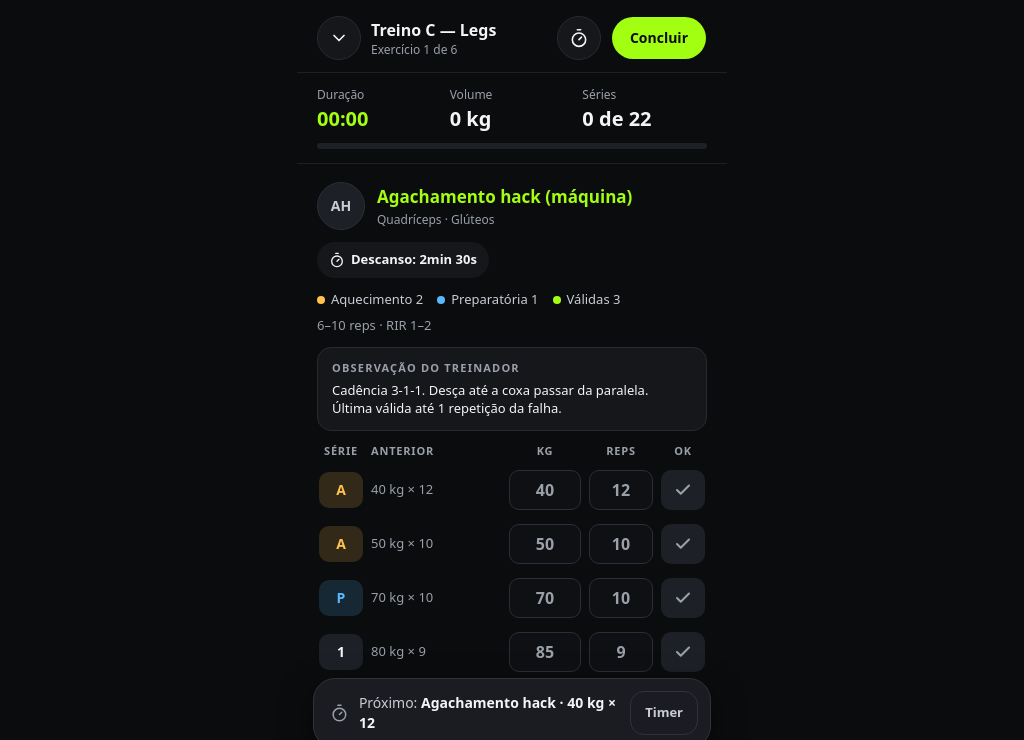
Test: Treino em andamento › não conclui um treino sem nenhuma série
Expected: the heading "Treino C — Legs" is shown, [371,19,496,41]
Click the button "Concluir". click: (659, 38)
box: [611,16,707,60]
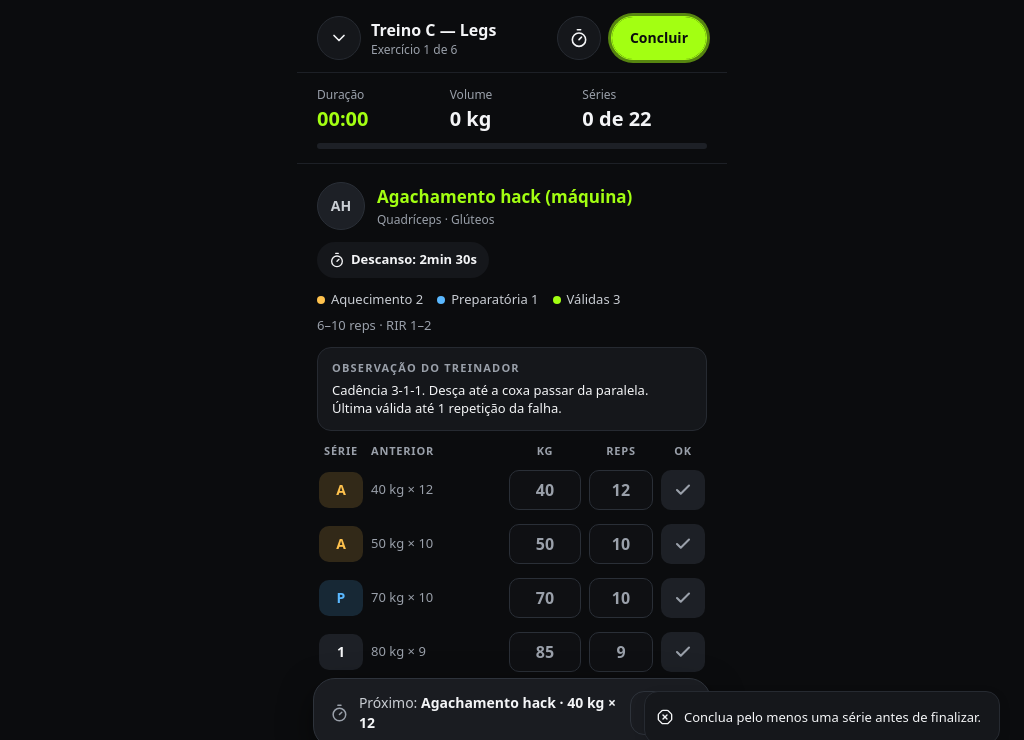
Result: the text "Conclua pelo menos uma série antes de finalizar." is shown at [684,708,981,727]
